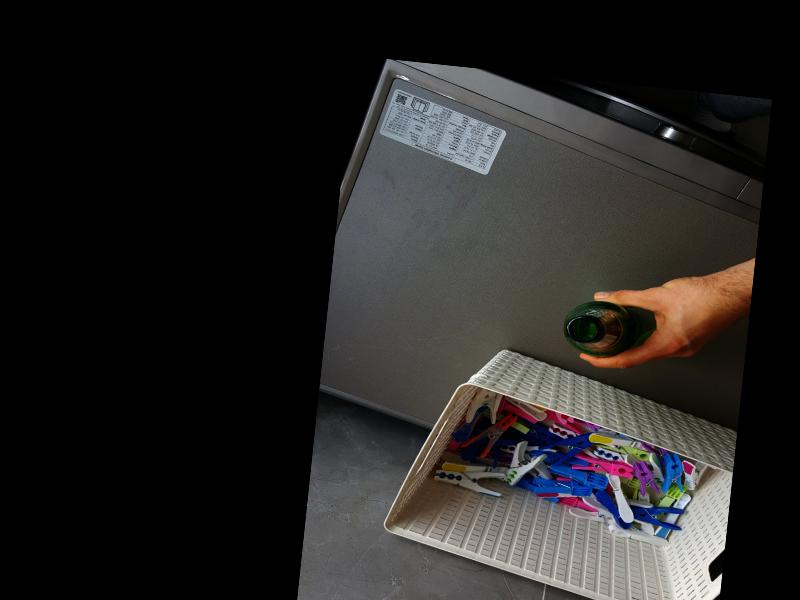Beer: (561, 297, 644, 360)
